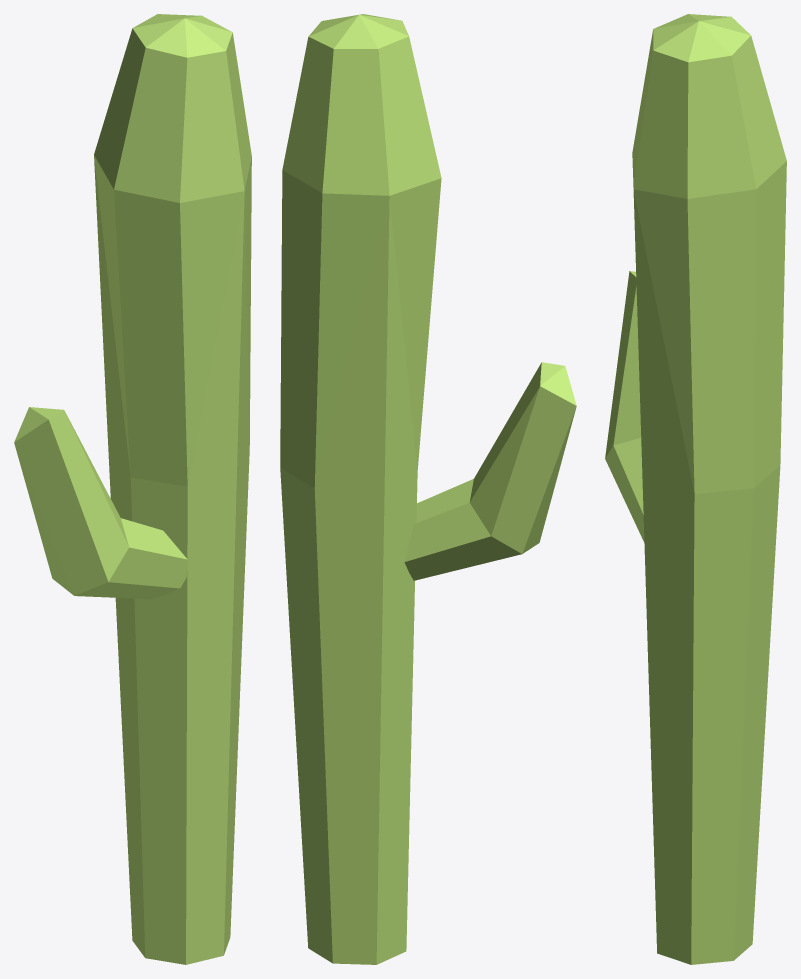
The model's file is Cactus_l_03.fbx.
The picture shows the model from 3 angles, left to right: view 1: azimuth 30°, elevation 25°; view 2: azimuth 150°, elevation 25°; view 3: azimuth 270°, elevation 25°; orthographic projection.
Parts seen in each view (by area): view 1: Cactus_l_03; view 2: Cactus_l_03; view 3: Cactus_l_03.
Boxes of the visible parts, <box> form: Cactus_l_03: <box>14,14,251,964</box>; Cactus_l_03: <box>280,14,576,964</box>; Cactus_l_03: <box>605,14,786,964</box>.
Size of the model in its own units: 115 by 397 by 70.83.
